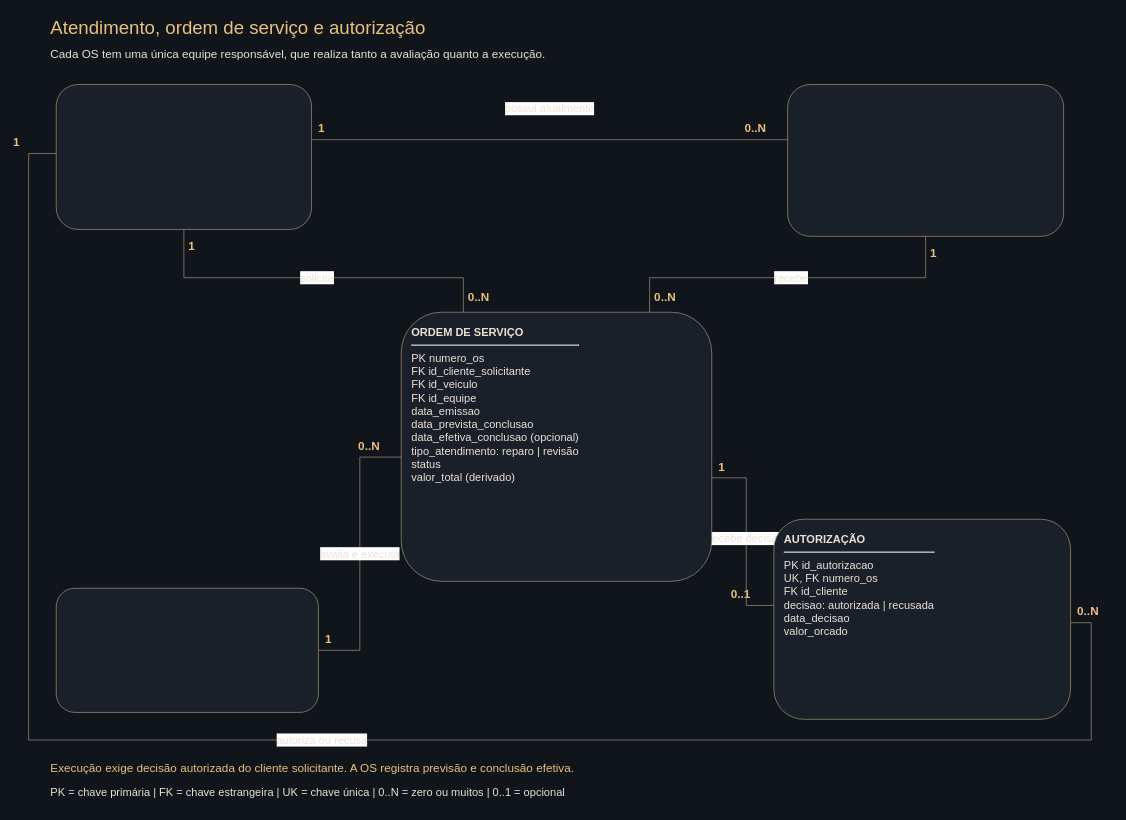
This 1126x820 diagram has some shape labels left out. The shapes that lost their labels are listed below. From the top down, each one's centre as x and y in pixels, then its label:
(184,156): CLIENTE PK id_cliente nome telefone, email endereco
(925,160): VEÍCULO PK id_veiculo FK id_cliente_atual UK placa marca, modelo, ano
(187,650): EQUIPE PK id_equipe nome_equipe
